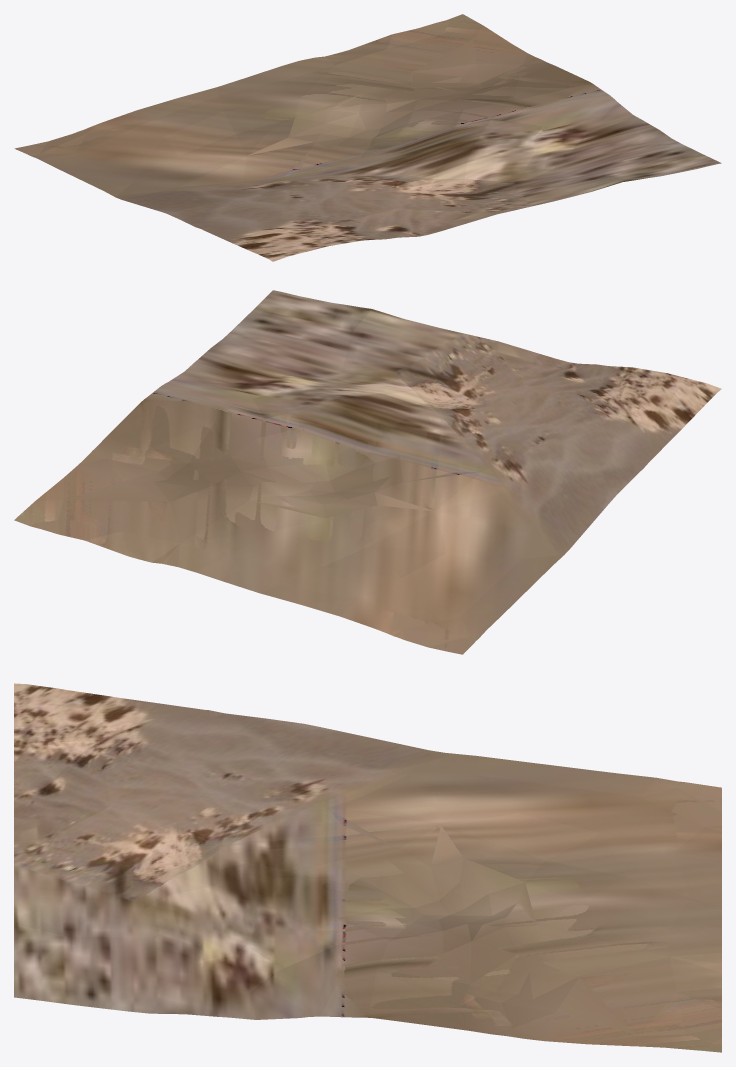
3 views of the same model, one above another, from view 1: azimuth 30°, elevation 25°; view 2: azimuth 150°, elevation 25°; view 3: azimuth 270°, elevation 25° (orthographic). The views are drawn at different scales.
Bounding box in the file's own units: 1.04 × 0.1772 × 1.04.
2 materials, 2 textured.
